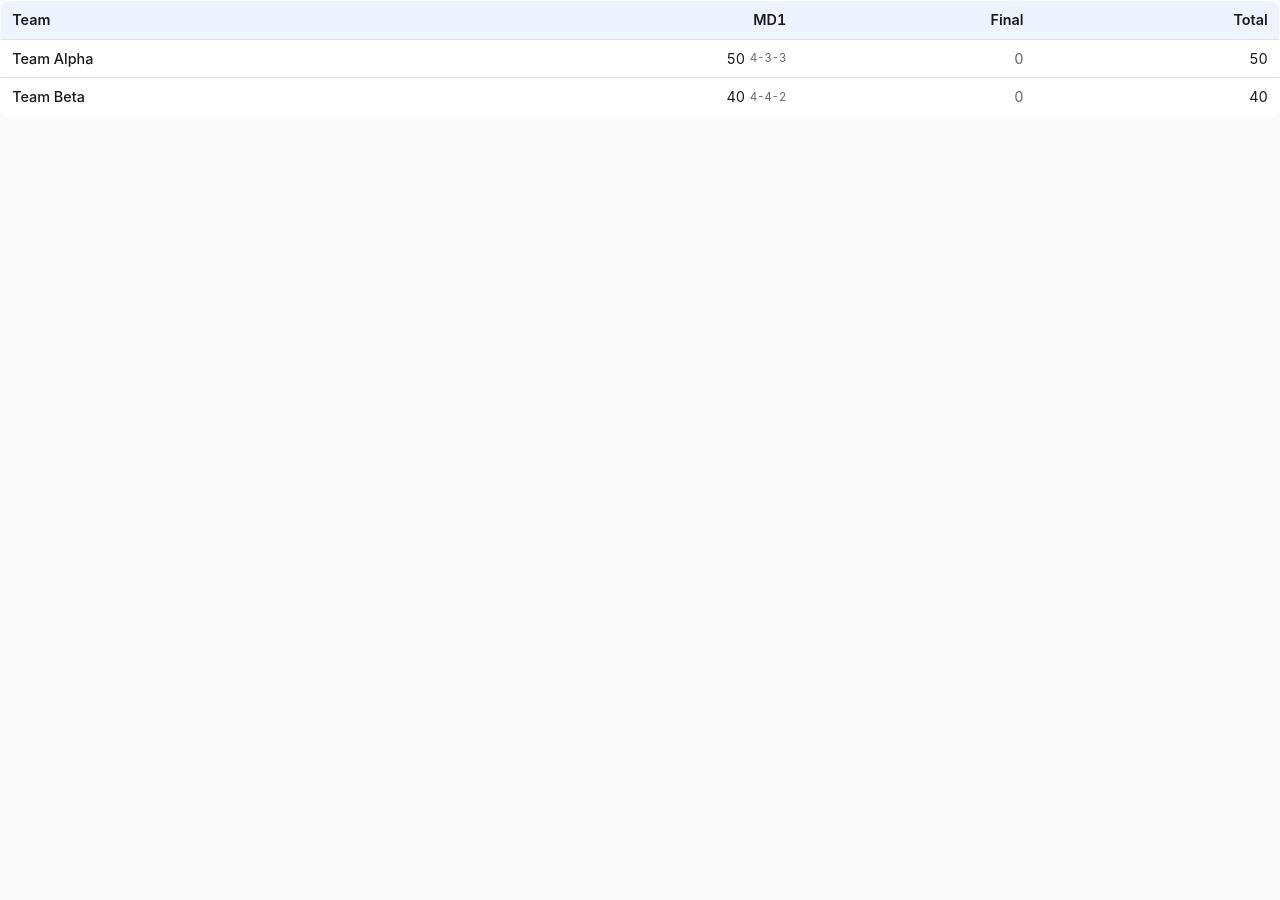
StandingsPeriodTable › closes on a backdrop click
The width and height of the screenshot is (1280, 900).
Click the button "50 4-3-3": (768, 58) [446,40,798,77]
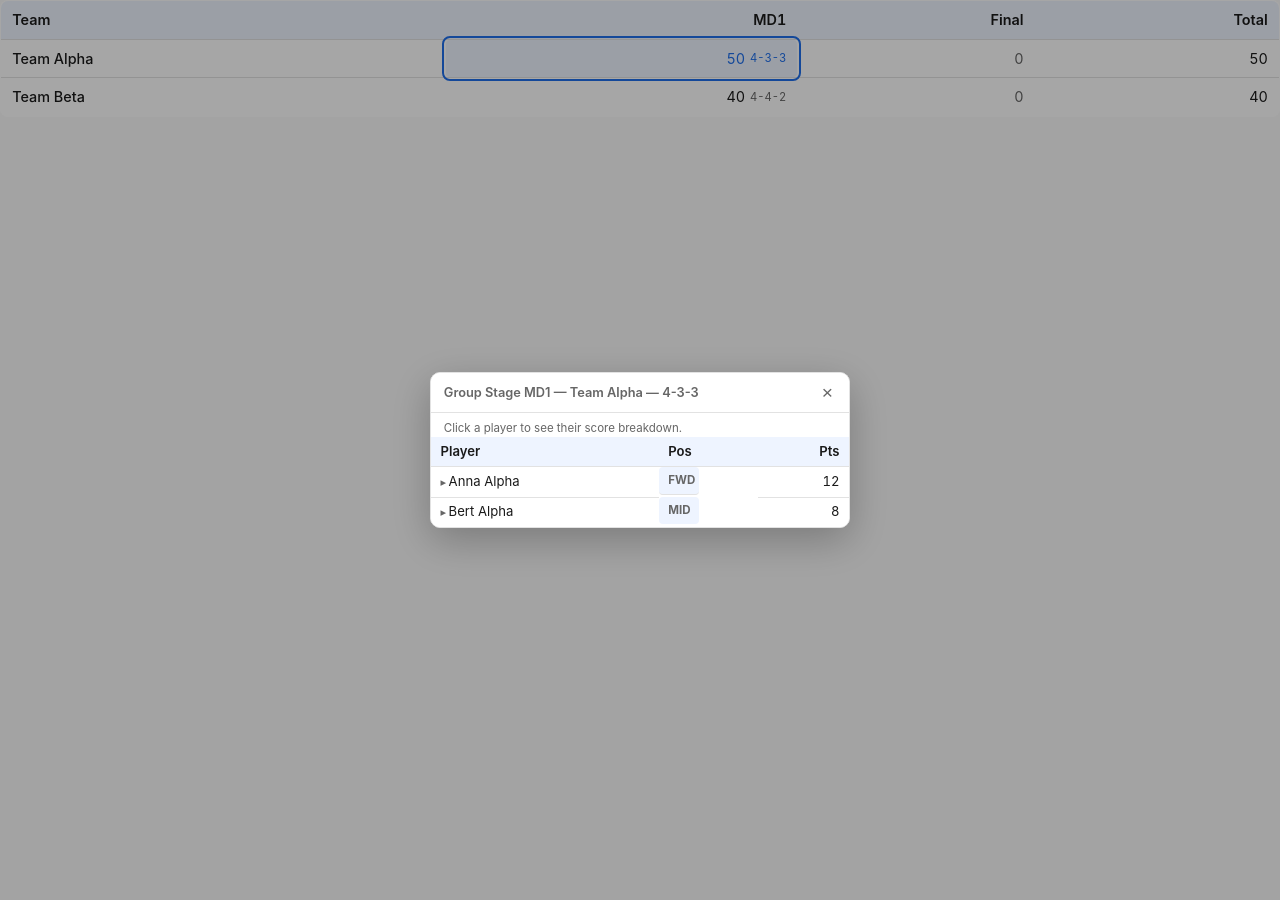
Click the element with class "xi-overlay": (77, 450) [0,0,1279,899]
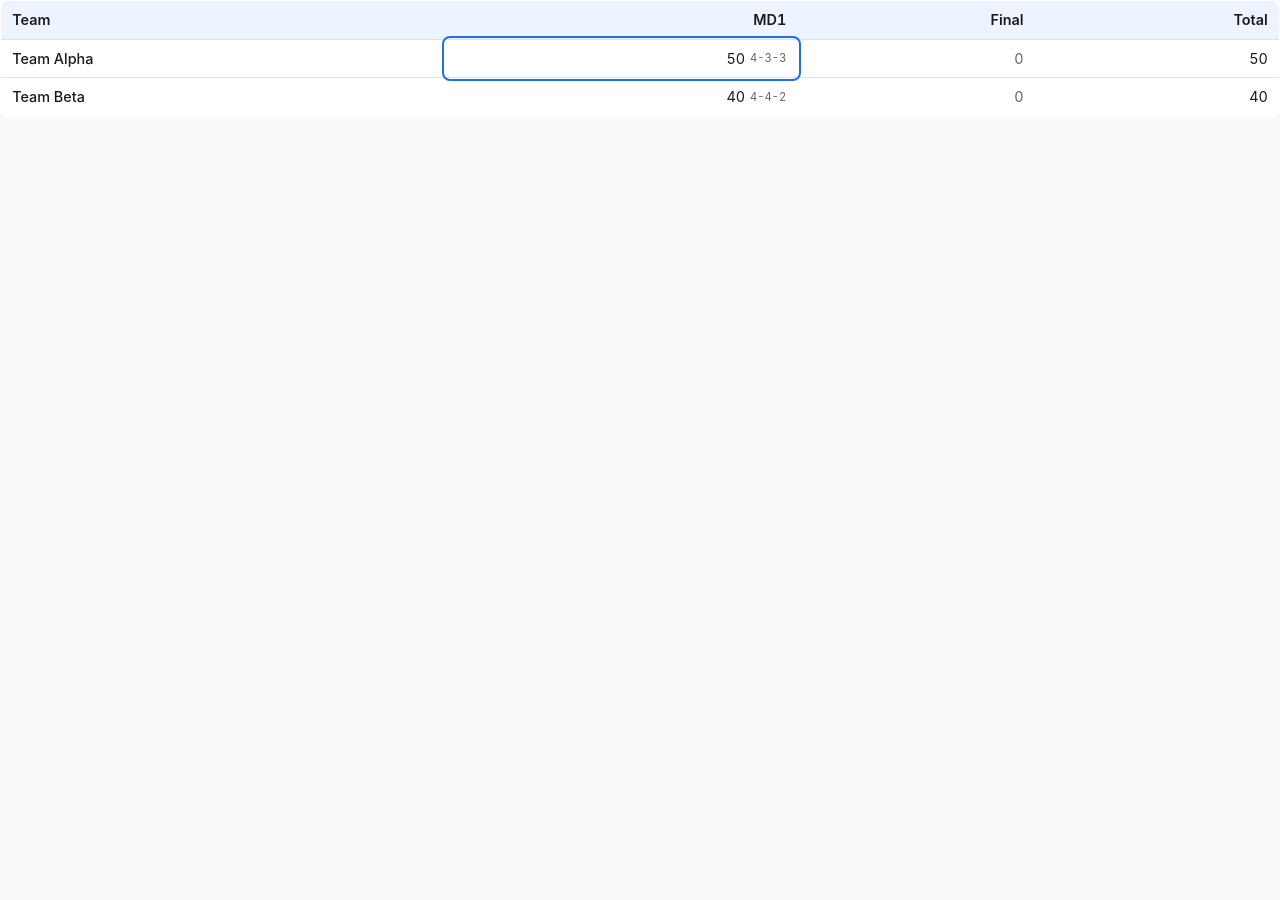
Expected: the dialog is gone
